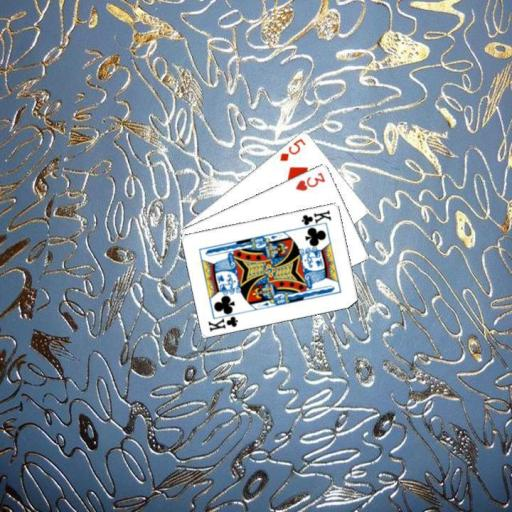3H: (292, 169, 327, 192)
5D: (277, 135, 307, 162)
KC: (205, 309, 242, 333), (296, 207, 333, 230)
